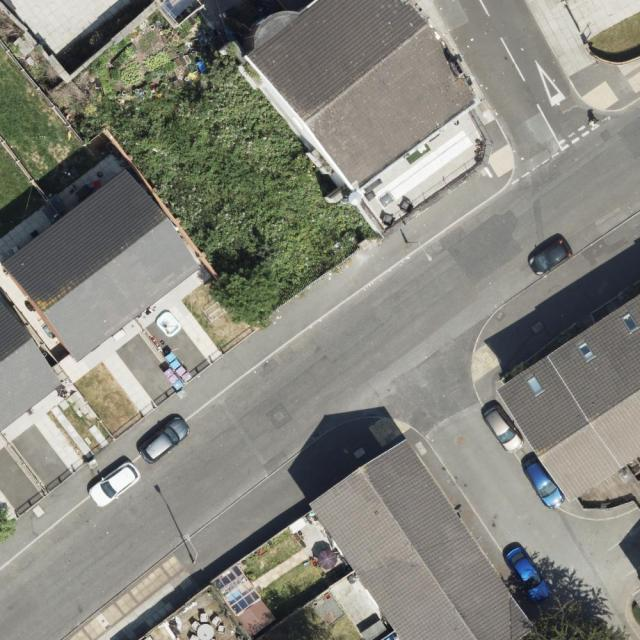roof: (244, 0, 480, 193), (309, 440, 533, 640), (0, 165, 202, 363), (495, 291, 640, 505), (0, 302, 65, 431)
skylight: (525, 374, 548, 398), (575, 339, 597, 364), (617, 310, 639, 334)
